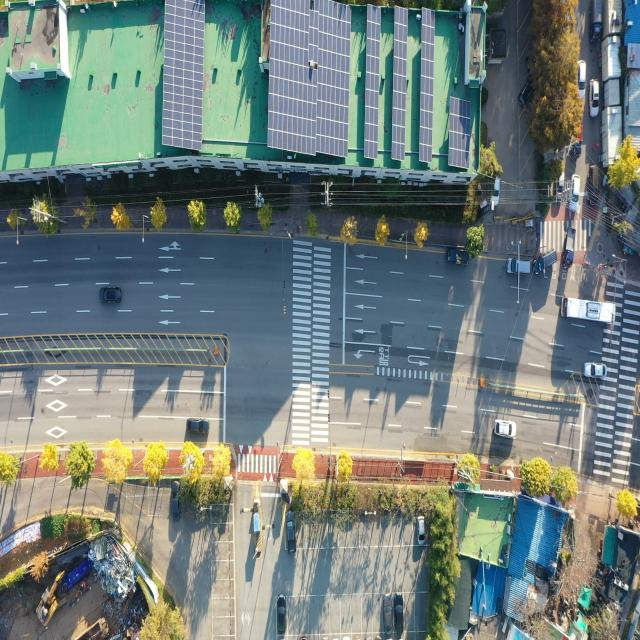car: (532, 249, 558, 275), (516, 82, 536, 109), (588, 162, 600, 205), (507, 258, 530, 280), (186, 416, 210, 435), (170, 479, 182, 517), (590, 74, 600, 119), (585, 361, 608, 378), (571, 176, 582, 211), (394, 591, 403, 632), (490, 173, 501, 206), (384, 592, 393, 632), (494, 421, 515, 438), (100, 287, 122, 303), (278, 595, 286, 634), (578, 60, 586, 99), (287, 520, 296, 553), (554, 172, 564, 200), (418, 516, 425, 544)
large_bus: (560, 295, 613, 323)
small_truck: (590, 0, 606, 45), (562, 226, 576, 268), (572, 118, 584, 161), (446, 249, 471, 265)
